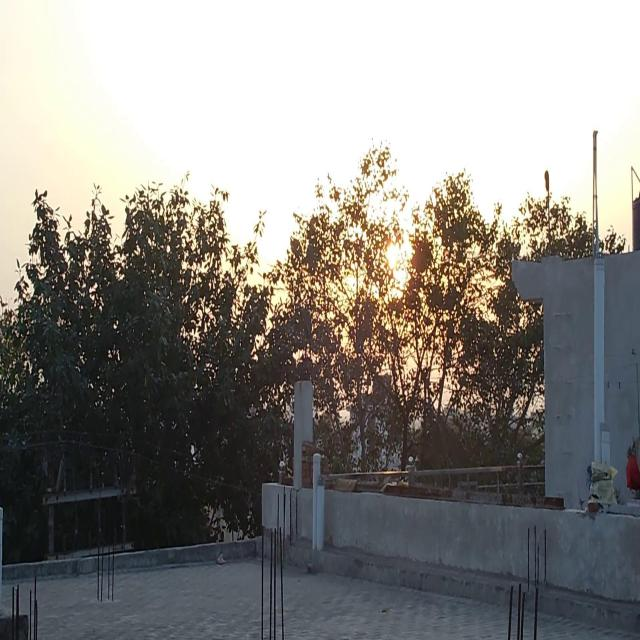other: (384, 231, 423, 304)
